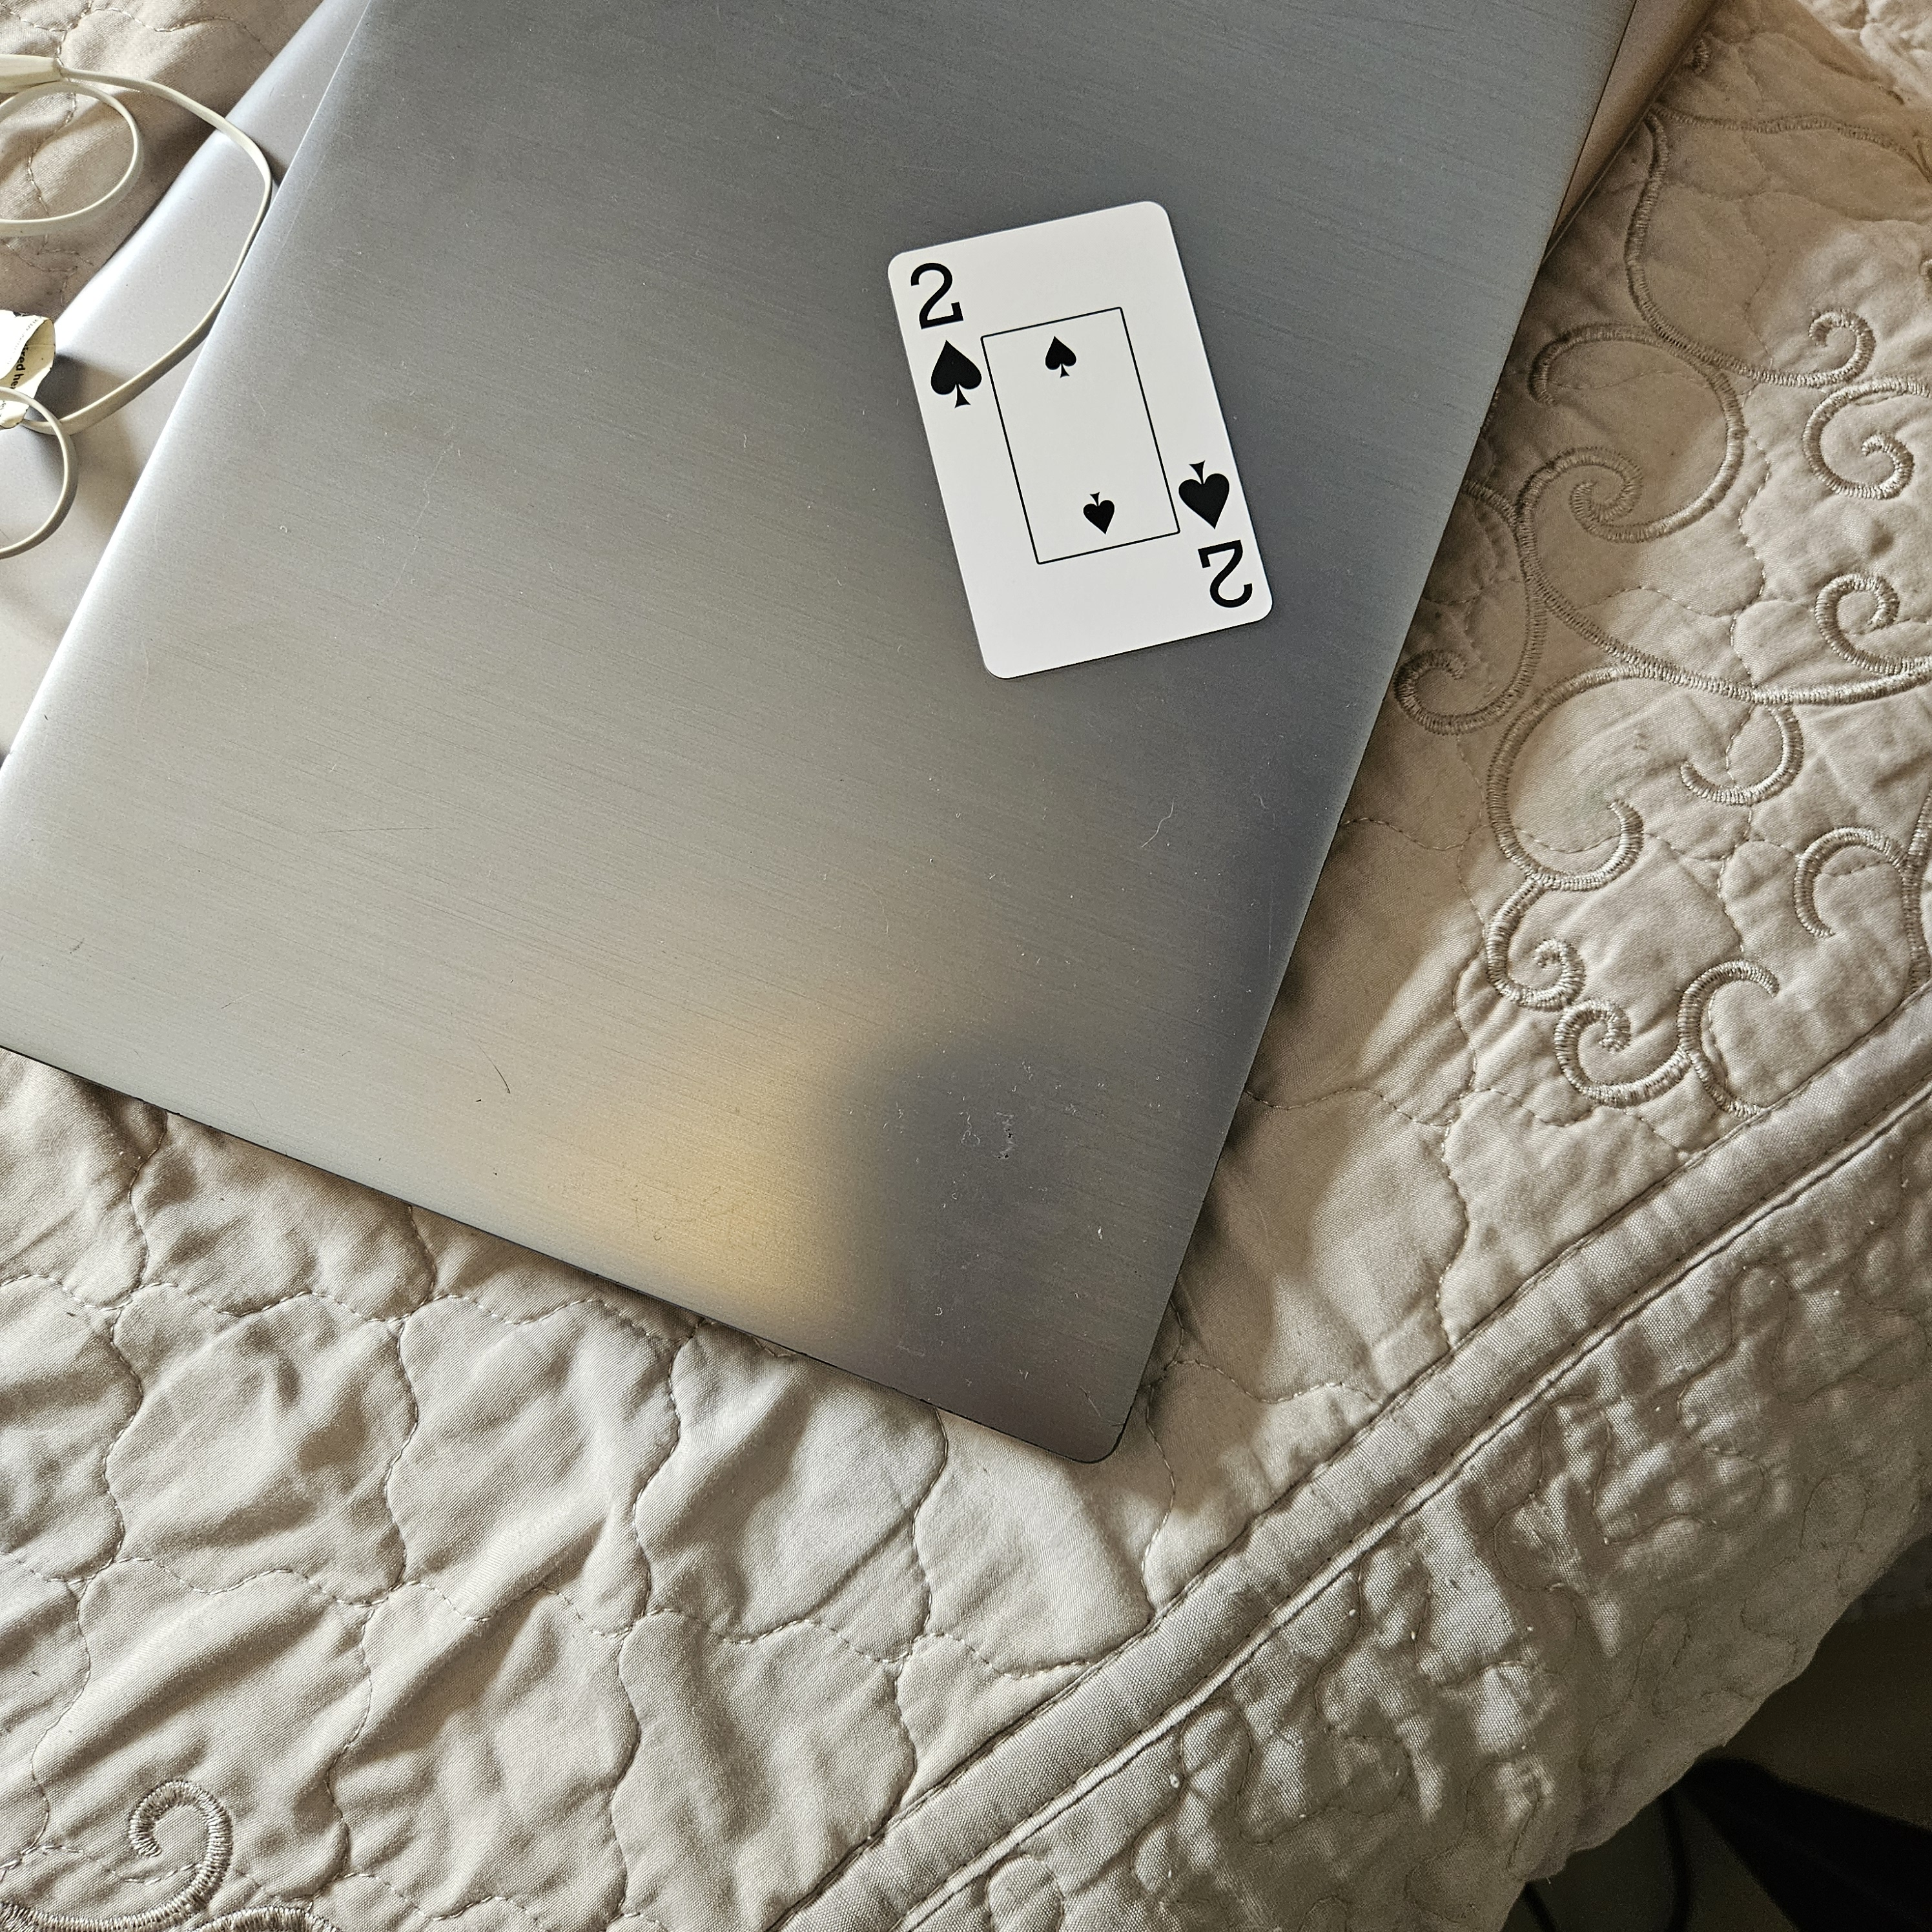2E: (1162, 449, 1279, 630), (899, 248, 993, 414)
